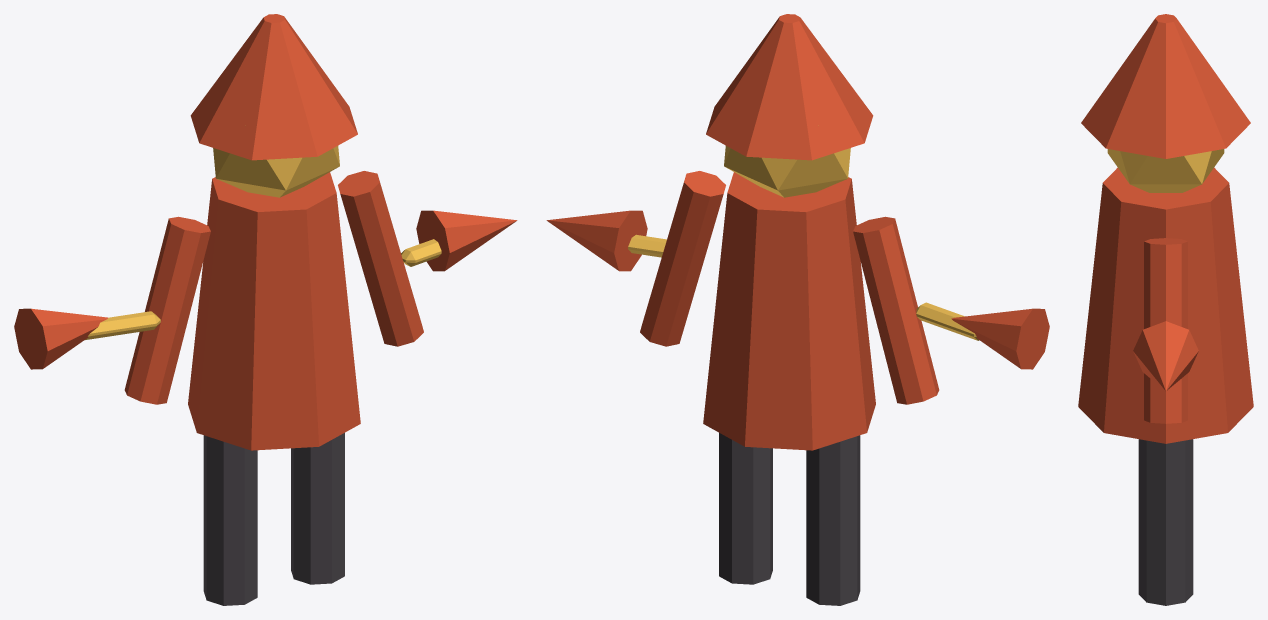
The model's file is hero_ember_ranger.glb.
The picture shows the model from 3 angles, left to right: view 1: azimuth 30°, elevation 25°; view 2: azimuth 150°, elevation 25°; view 3: azimuth 270°, elevation 25°; orthographic projection.
Parts seen in each view (by area): view 1: hero_ember_ranger; view 2: hero_ember_ranger; view 3: hero_ember_ranger.
Part boxes in pixels (bbox=[...]): hero_ember_ranger: bbox=[14, 14, 517, 605]; hero_ember_ranger: bbox=[546, 14, 1049, 605]; hero_ember_ranger: bbox=[1078, 14, 1253, 605].
Bounding box in the file's own units: 2.01 × 2.23 × 0.64.
